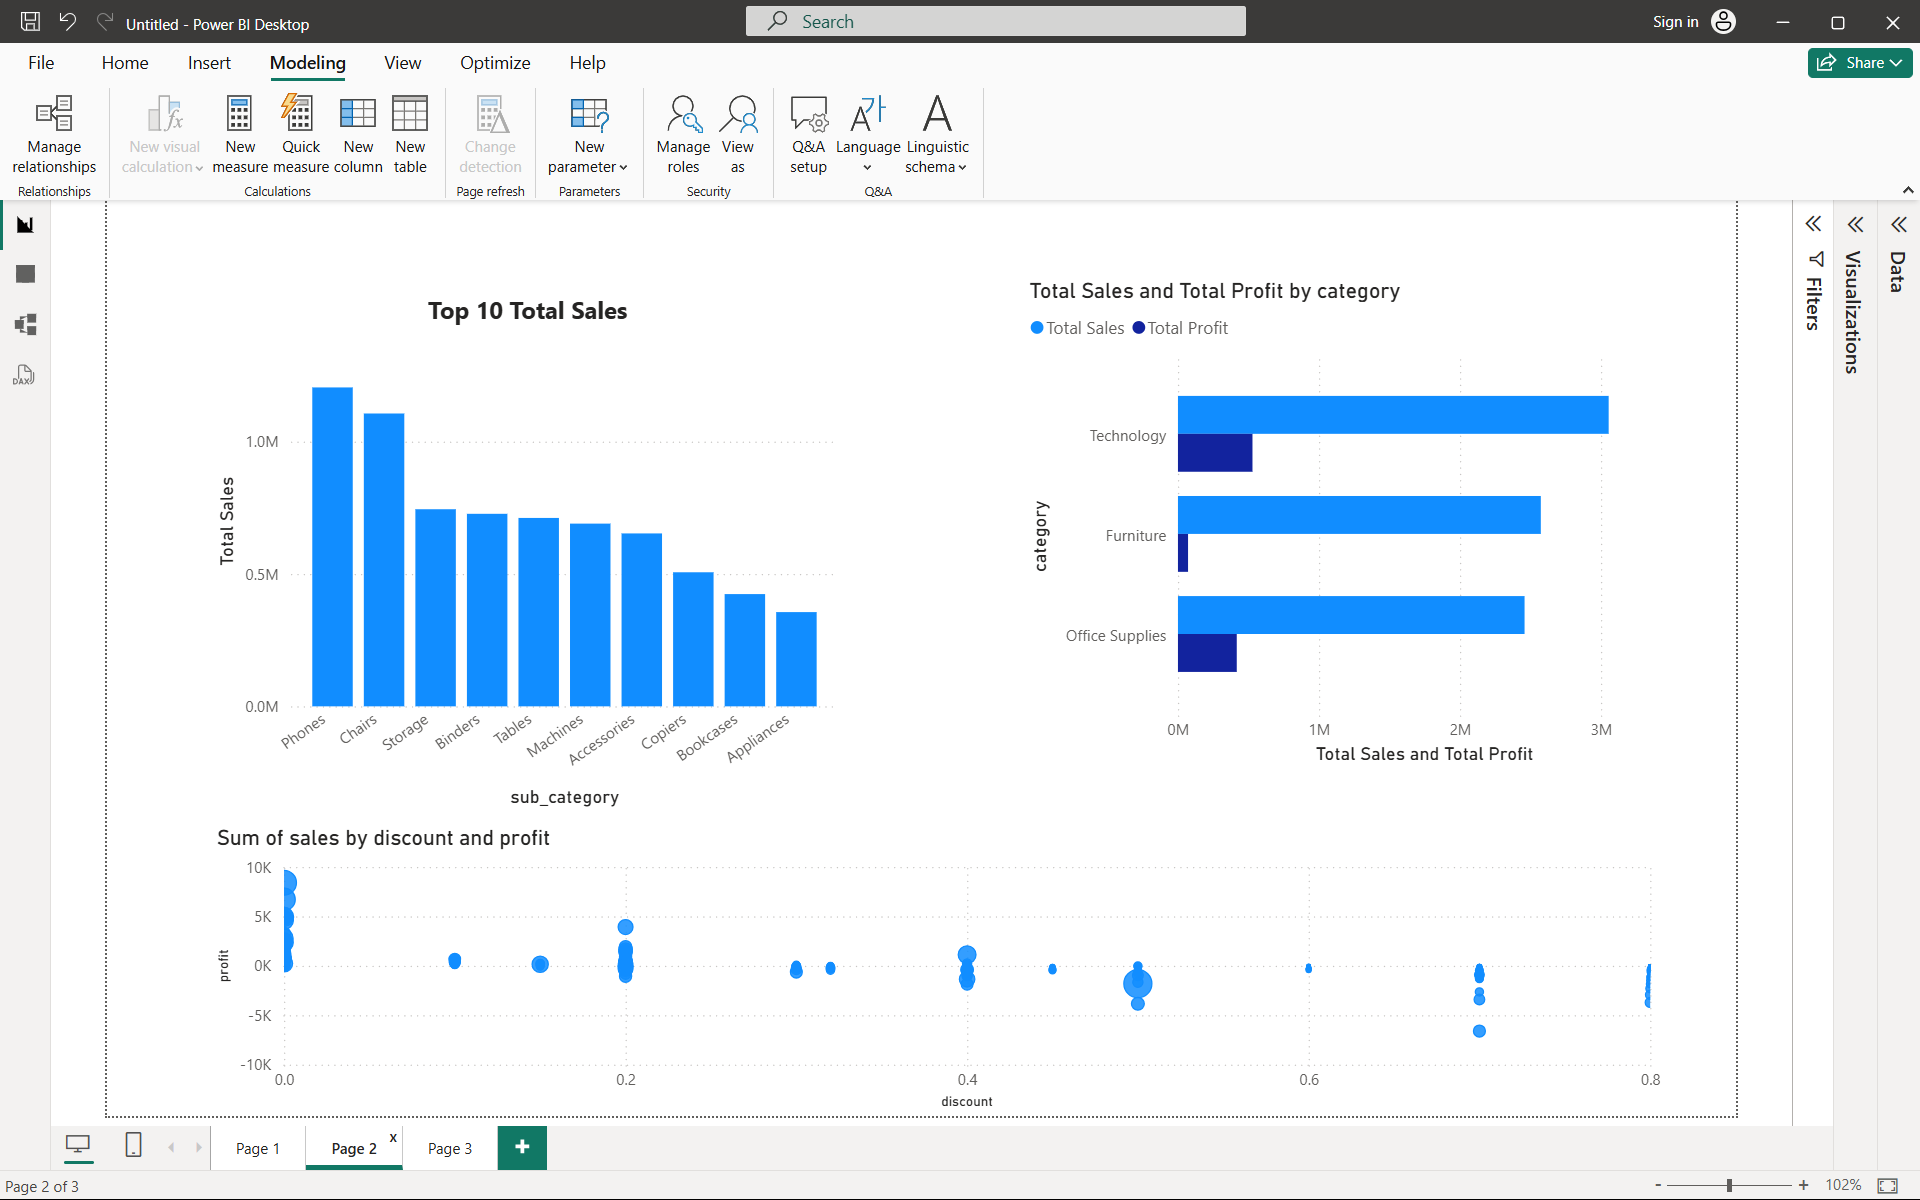

The page's visual inventory and layout, read from the dashboard file:
{"tool":"powerbi","page":{"name":"Page 2","canvas":[1280,720],"ordinal":1},"visuals":[{"type":"clusteredColumnChart","title":"Top 10 Total Sales","fields":{"Category":["mart dim_product.sub_category"],"Y":["mart dim_customer.Total Sales"]},"box":[81.7,73.4,498.3,408.3],"z":0},{"type":"clusteredBarChart","fields":{"Category":["mart dim_product.category"],"Y":["mart dim_customer.Total Sales","mart dim_customer.Total Profit"]},"box":[719.7,60.9,528.7,387.5],"z":1000},{"type":"scatterChart","fields":{"Y":["mart fact_sales.profit"],"X":["mart fact_sales.discount"],"Size":["Sum(mart fact_sales.sales)"]},"box":[81.7,491.4,1144.6,228.4],"z":2000}]}

Visuals, with their boxes on the page's 1280x720 design canvas (x1, y1, x2, y2). These are canvas units, not pixel positions in the 1920x1200 screenshot, which may show the page scaled, cropped or inside an application window:
"Top 10 Total Sales" clusteredColumnChart: bbox=[82, 73, 580, 482]
clusteredBarChart - mart dim_product.category x mart dim_customer.Total Sales: bbox=[720, 61, 1248, 448]
scatterChart - mart fact_sales.profit x mart fact_sales.discount: bbox=[82, 491, 1226, 720]
